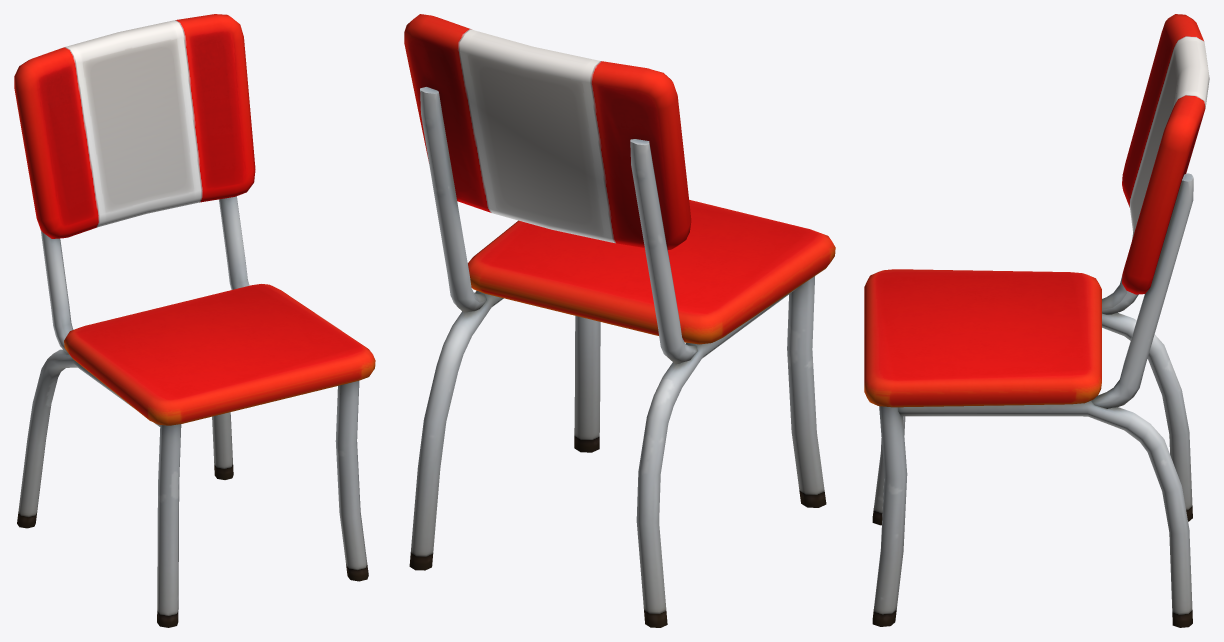
Rendered from CafeChair02.FBX.
The picture shows the model from 3 angles, left to right: view 1: azimuth 30°, elevation 25°; view 2: azimuth 150°, elevation 25°; view 3: azimuth 270°, elevation 25°; orthographic projection. The views are drawn at different scales.
Parts seen in each view (by area): view 1: CafeChair02; view 2: CafeChair02; view 3: CafeChair02.
Part boxes in pixels (box(x1,y1,x2,y2)): CafeChair02: box(14, 14, 375, 627); CafeChair02: box(404, 14, 835, 627); CafeChair02: box(864, 14, 1209, 627).
Size of what is drawn, in the model's own units: 0.5431 by 1.07 by 0.6616.
